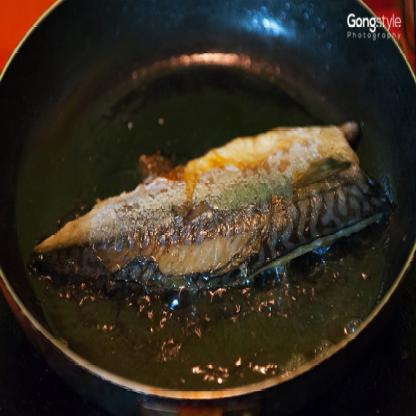Peixe: (23, 107, 390, 335)
